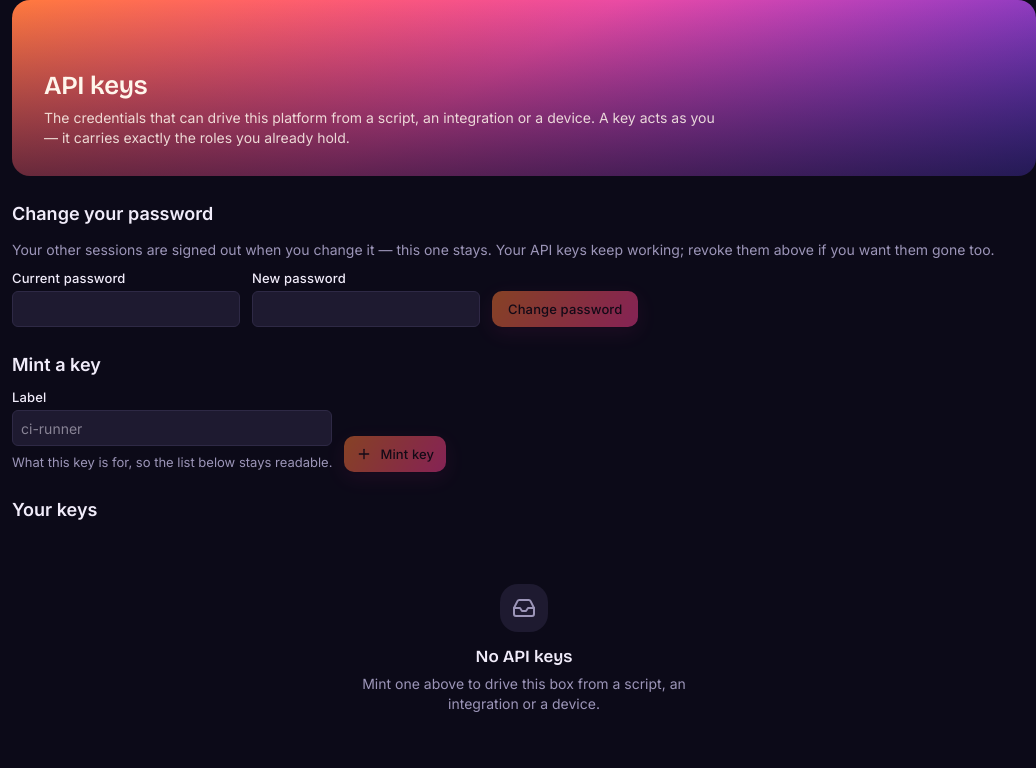
Test: change your password › reports a wrong current password against the field, staying on the page
In the password field labelled "Current password": (126, 309) [12, 291, 240, 327], type "wrong"
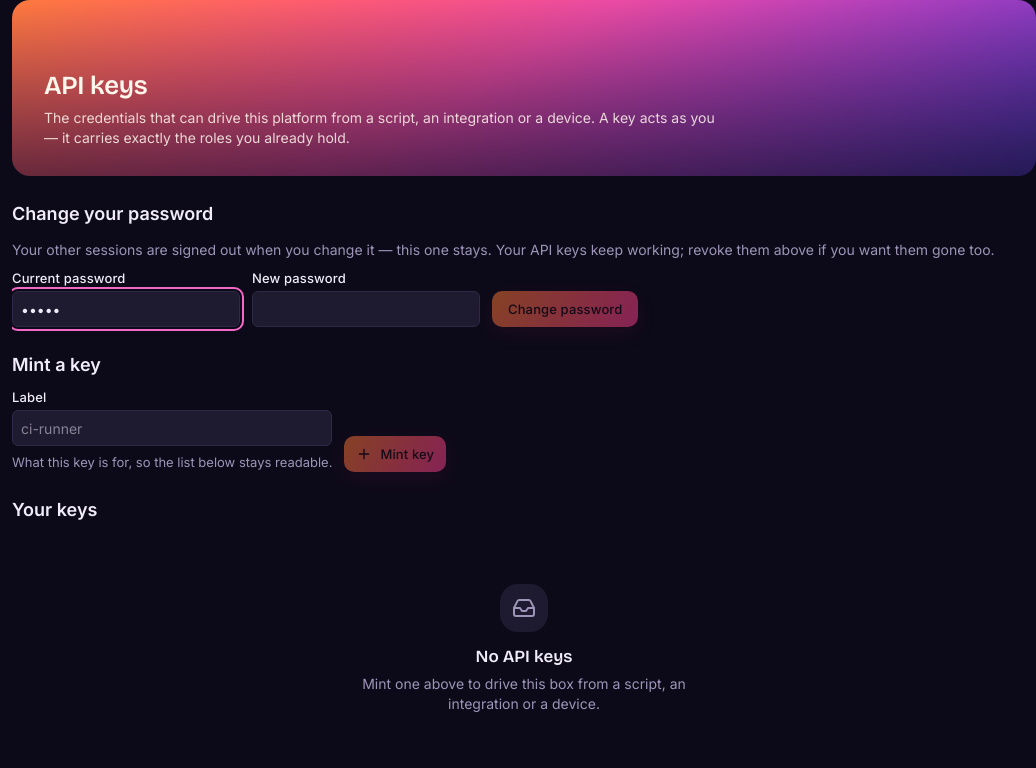
In the password field labelled "New password": (366, 309) [252, 291, 480, 327], type "new-one"
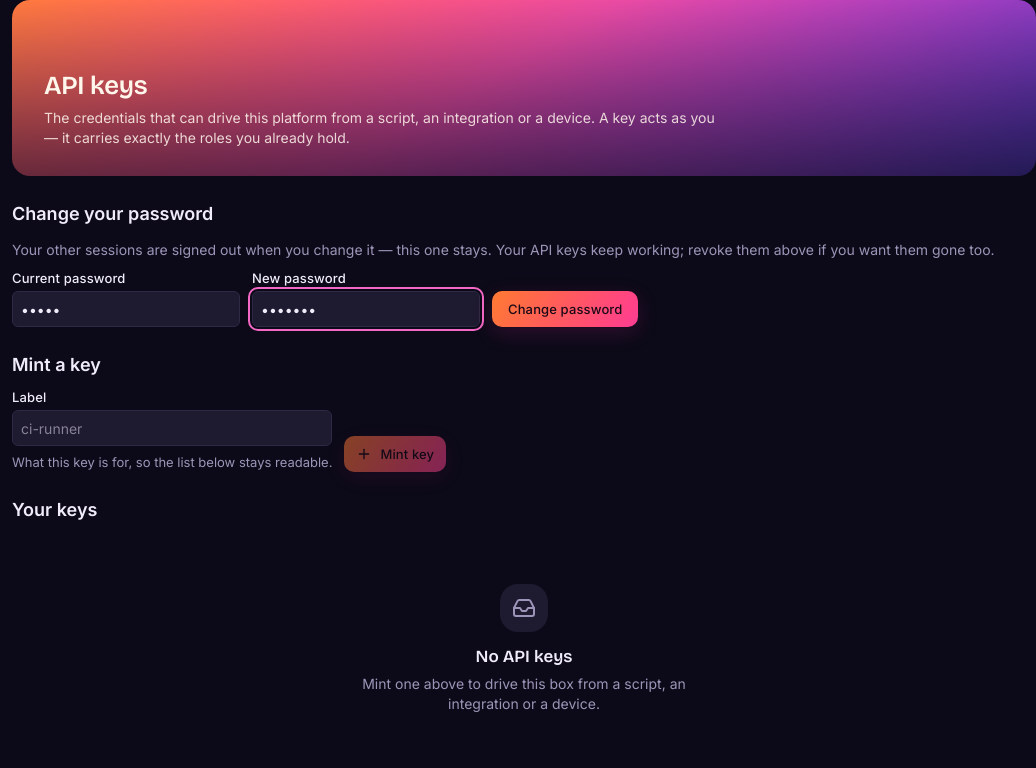
Click the button with aria-label "change your password": (565, 309) [492, 291, 638, 327]
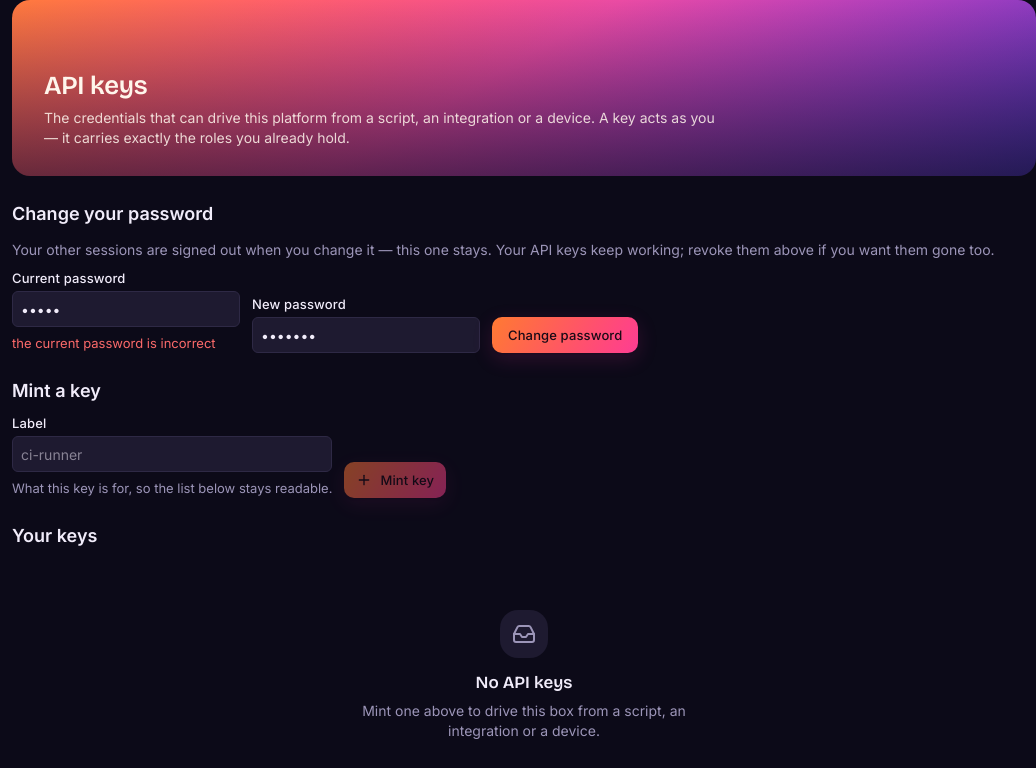
Expected: the text "the current password is incorrect" is shown, [12, 333, 240, 353]
